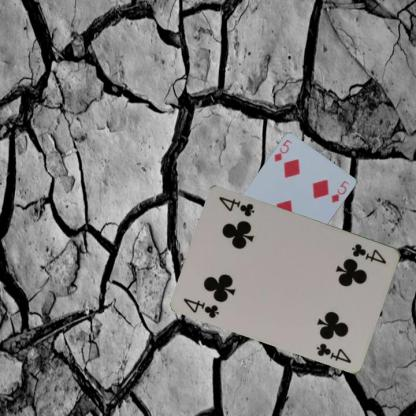4c: (181, 295, 221, 320), (349, 241, 388, 265)
5d: (271, 137, 293, 163)
